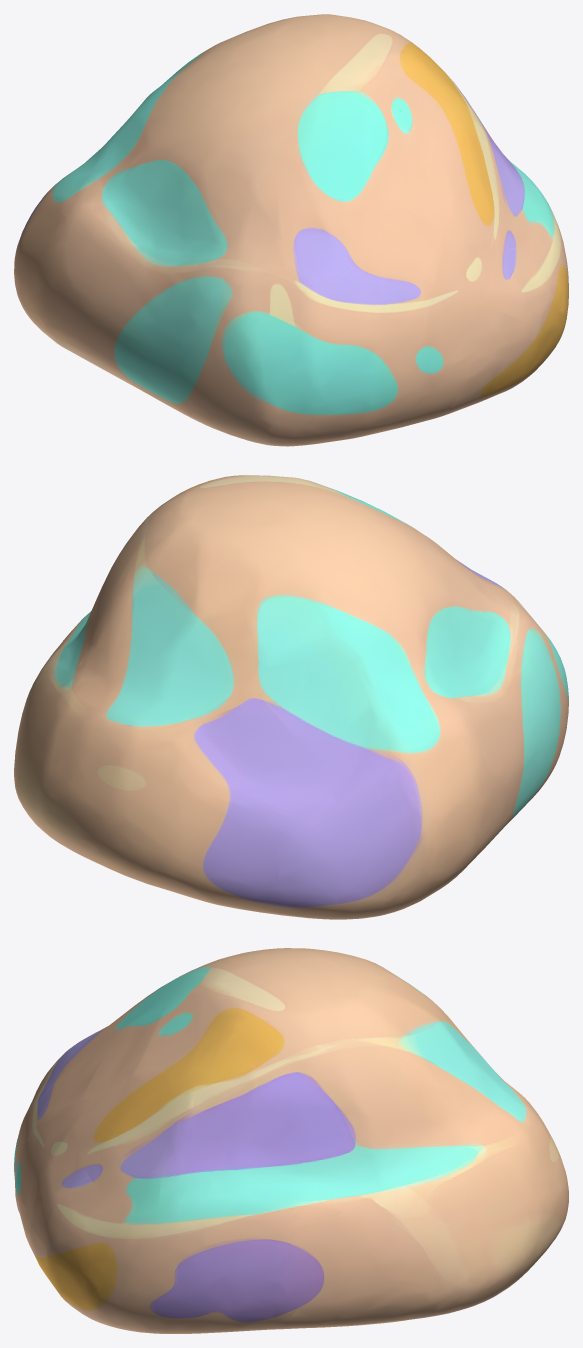
Rendered from static.glb.
3 renders of one model, top to bottom at view 1: azimuth 30°, elevation 25°; view 2: azimuth 150°, elevation 25°; view 3: azimuth 270°, elevation 25°, orthographic. The views are drawn at different scales.
Parts seen in each view (by area): view 1: Mesh_0; view 2: Mesh_0; view 3: Mesh_0.
Boxes of the visible parts, box(x1,y1,x2,y2) form: Mesh_0: box(14, 14, 568, 446); Mesh_0: box(14, 475, 568, 919); Mesh_0: box(14, 948, 568, 1333).
Bounding box in the file's own units: 1.72 × 1.13 × 1.9.
Materials: 1 (1 with a texture image).
